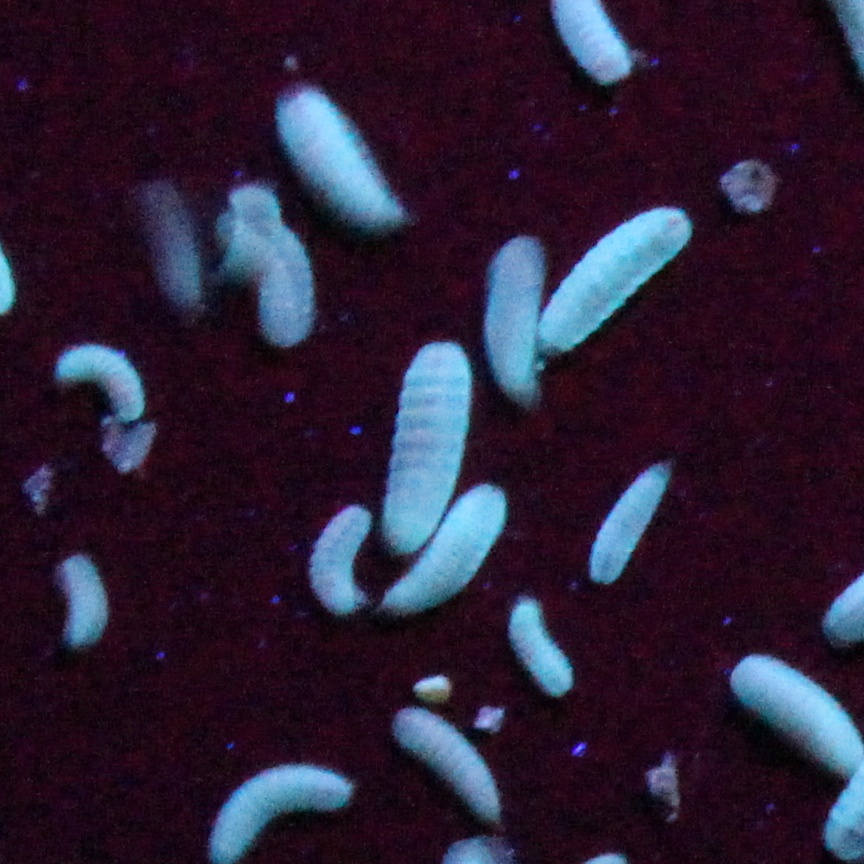larve: (530, 216, 696, 362), (270, 76, 396, 242), (396, 336, 470, 556), (223, 188, 314, 348), (210, 762, 343, 862), (403, 696, 496, 822), (590, 462, 663, 596), (490, 232, 543, 403), (307, 499, 372, 616), (54, 343, 145, 421), (50, 549, 110, 656), (510, 601, 572, 694)
